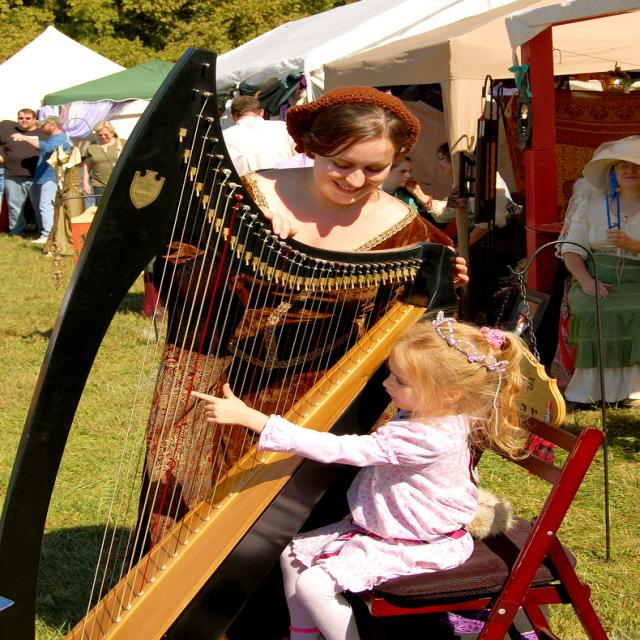harp: (0, 45, 459, 640)
